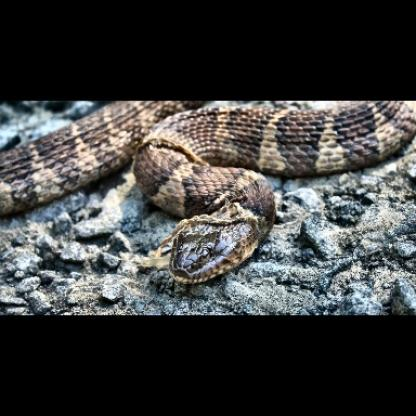Snake: (1, 100, 414, 284)
